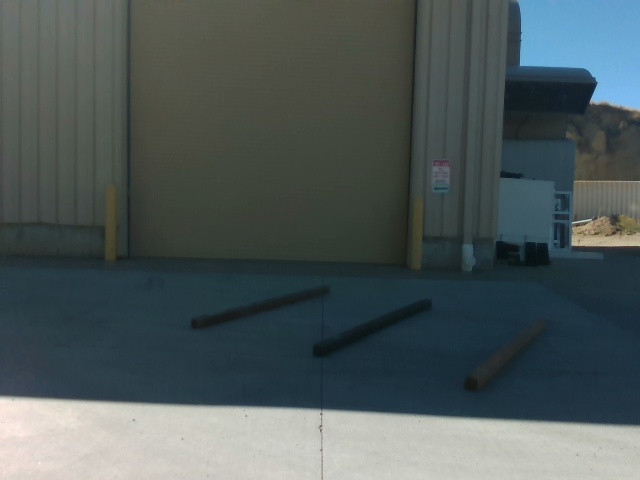dunnage: (183, 278, 561, 400)
